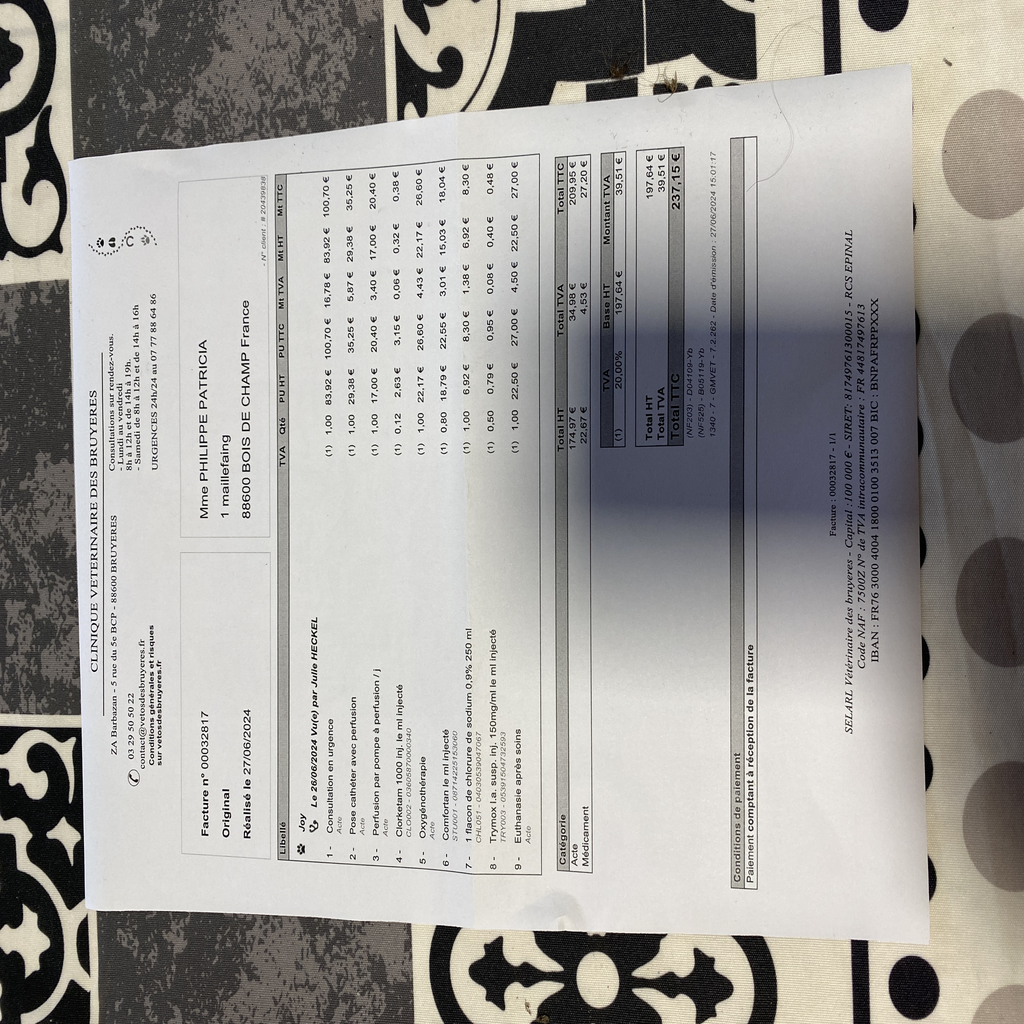recipt: (65, 67, 928, 940)
